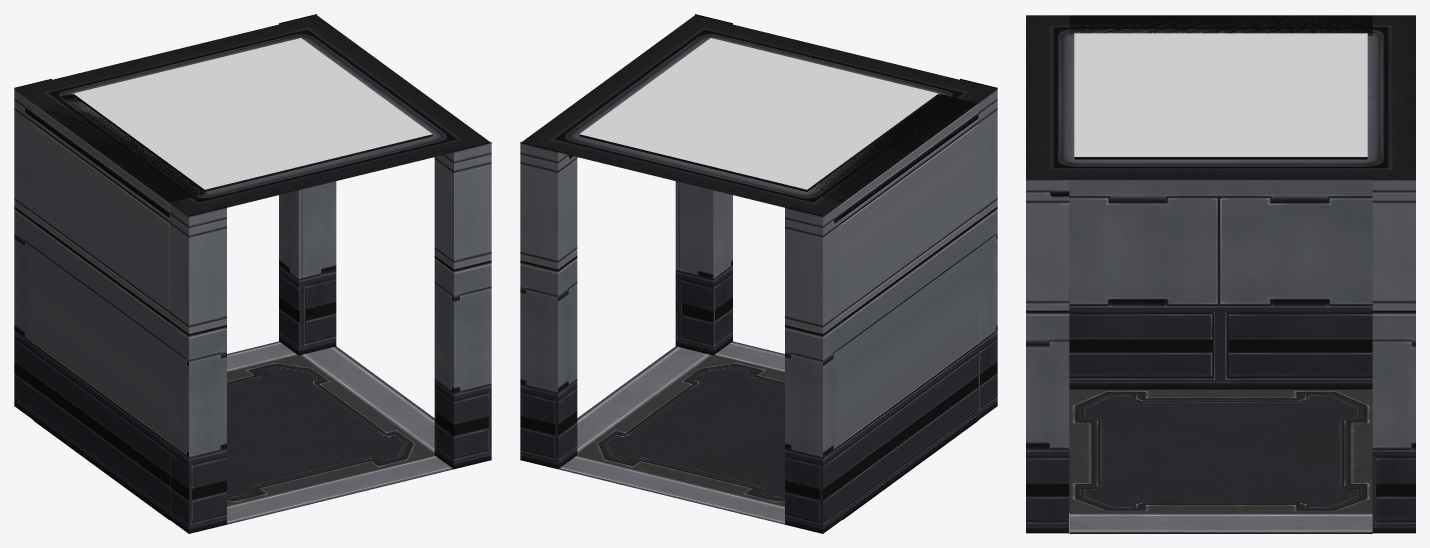
File: Prototypehall3wayLight01.fbx
3 renders of one model, left to right at view 1: azimuth 30°, elevation 25°; view 2: azimuth 150°, elevation 25°; view 3: azimuth 270°, elevation 25°, orthographic. The views are drawn at different scales.
Parts seen in each view (by area): view 1: Cube.001; view 2: Cube.001; view 3: Cube.001.
Boxes of the visible parts, x1,y1,x2,y2 form: Cube.001: [14, 14, 491, 533]; Cube.001: [520, 14, 997, 533]; Cube.001: [1026, 15, 1415, 533].
Size of the model in its own units: 200 by 202 by 200.
